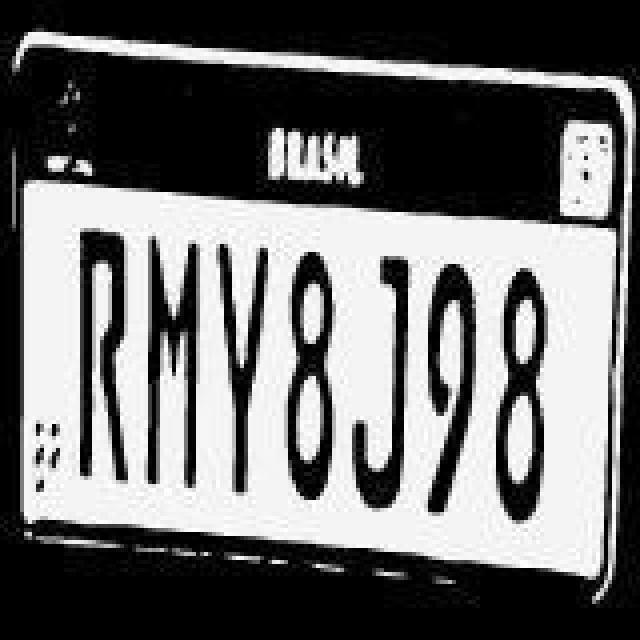8: (284, 248, 340, 504), (496, 266, 552, 518)
9: (422, 266, 482, 518)
J: (346, 258, 414, 510)
M: (144, 234, 208, 486)
R: (76, 226, 132, 486)
Y: (214, 234, 266, 494)
